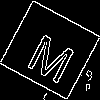M: (24, 25, 81, 85)
